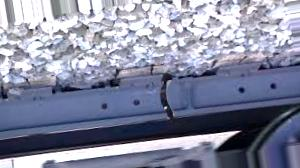tracks_fault: (99, 81, 279, 112), (139, 57, 199, 130)
